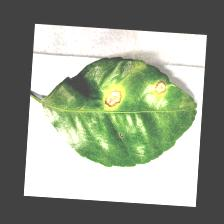canker: (94, 65, 178, 113)
